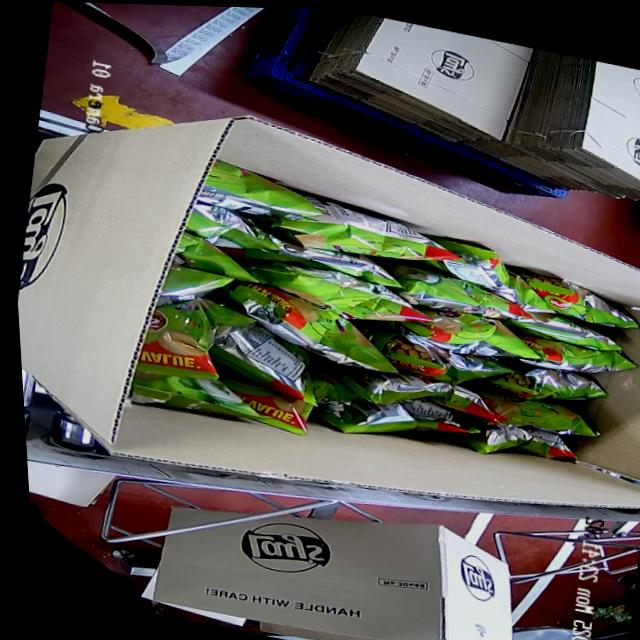YOGURT_HERB: (128, 152, 640, 484)
